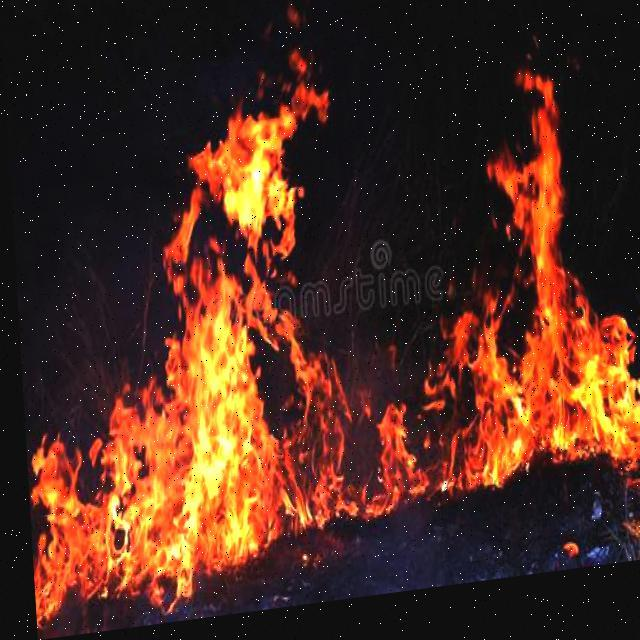Fire: (7, 21, 639, 621)
